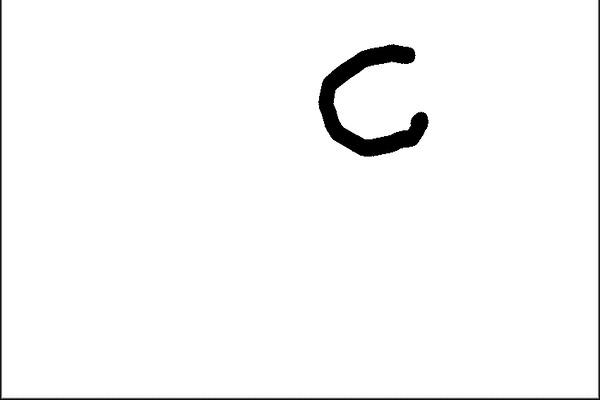C: (313, 36, 431, 160)
